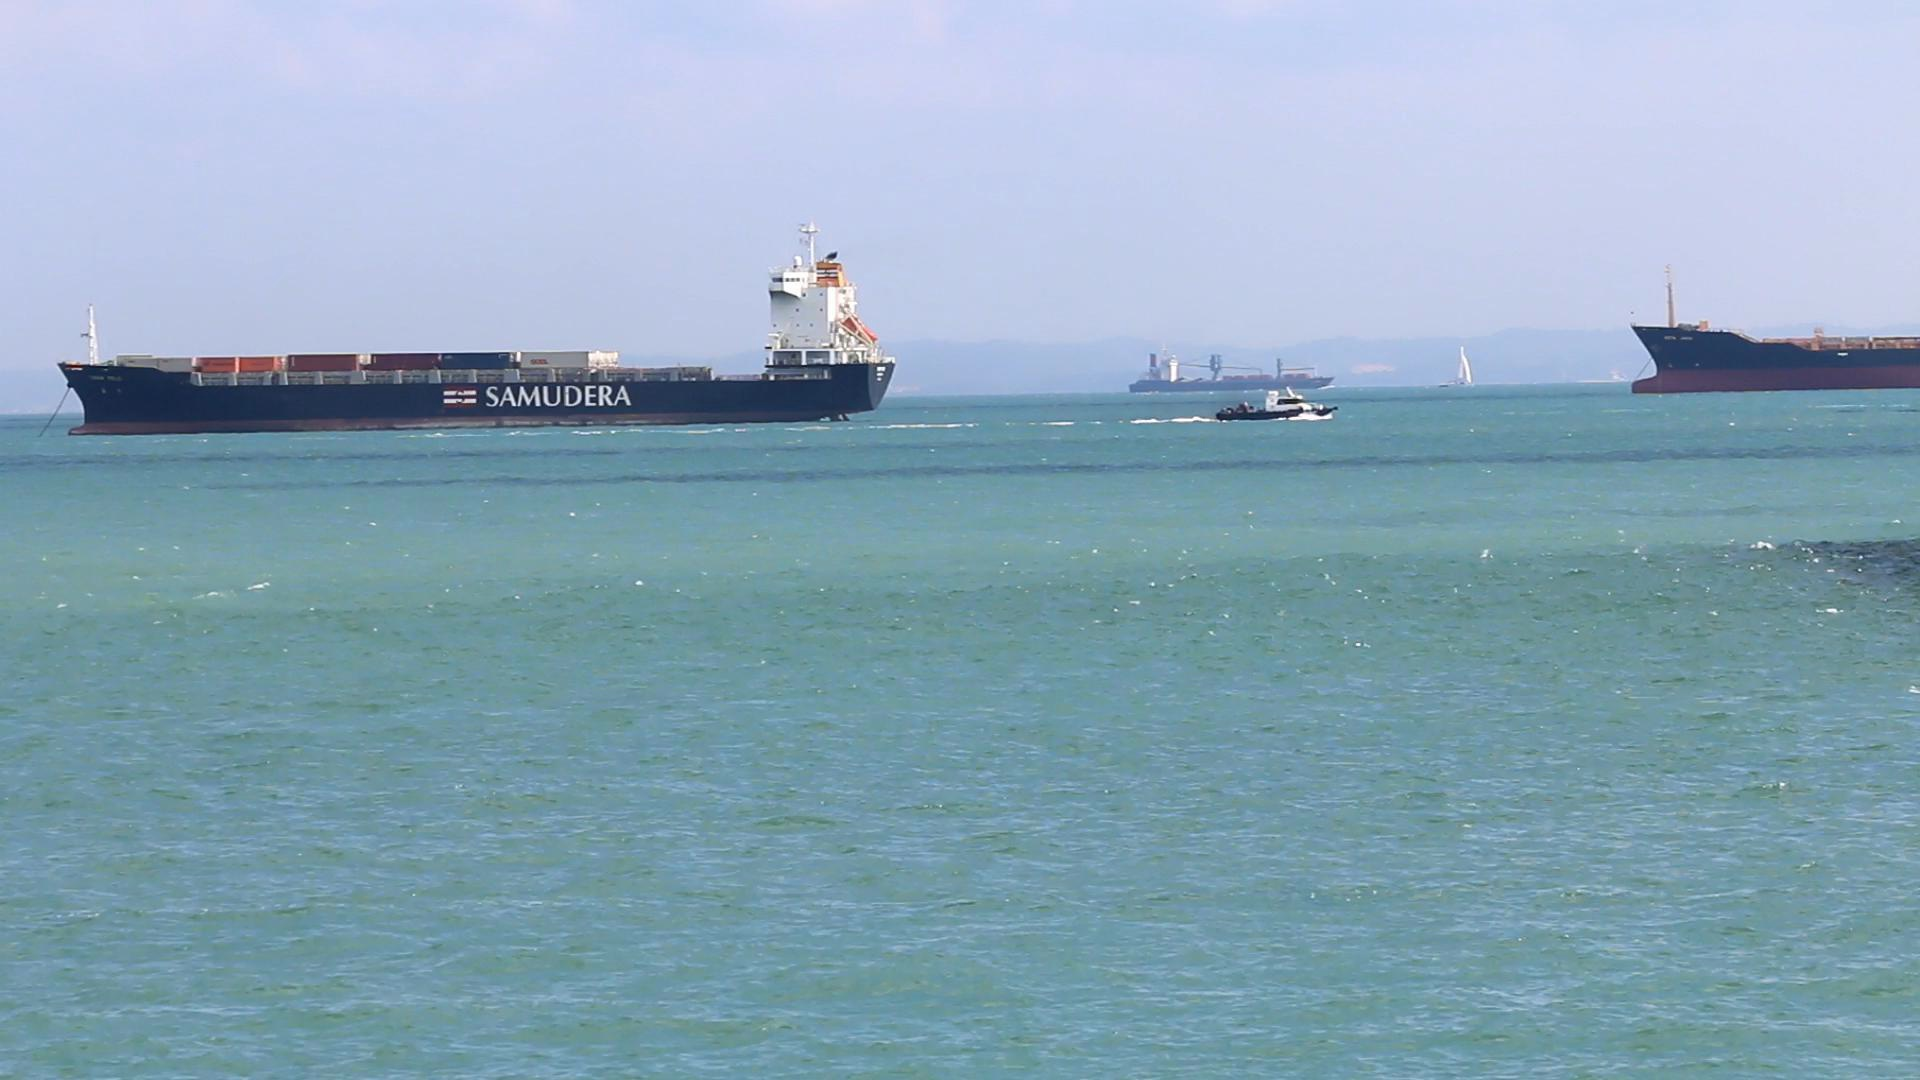Container Ship: (58, 222, 898, 438), (1633, 260, 1920, 394), (1126, 349, 1337, 397)
